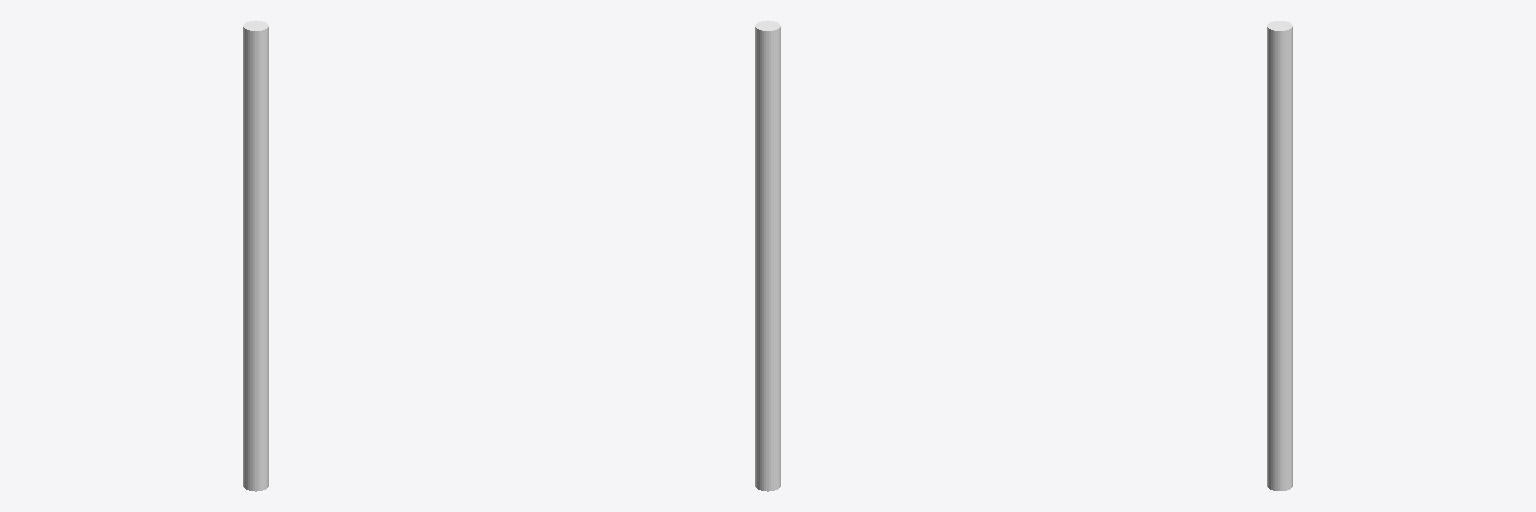
URDF robot description (cylinder):
<?xml version="1.0"?>
<robot name="cylinder">
  <!-- ベースリンク -->
  <link name="base_link">
    <visual>
      <geometry>
        <box size="0.1 0.1 0.1"/>
      </geometry>
      <material name="blue">
        <color rgba="0 0 1 1"/>
      </material>
    </visual>
  </link>

  <joint name="joint1" type="fixed">
    <parent link="base_link"/>
    <child link="link_cylinder"/>
    <origin xyz="0 0 0.1" rpy="0 0 0"/>
  </joint>

  <link name="link_cylinder">
    <visual>
      <geometry>
        <cylinder length="6.0" radius="0.15"/>
      </geometry>
      <material name="green">
        <color rgba="1 1 1 0.5"/>
      </material>
    </visual>
    <collision>
      <origin
        xyz="0 0 0"
        rpy="0 0 0" />
      <geometry>
        <cylinder length="6.0" radius="0.15"/>
      </geometry>
    </collision>
  </link>
</robot>

--- What the picture shows (computed from the rendered views, not written in the file) ---
Views: 3 orthographic renders of the robot side by side, from view 1: azimuth 30°, elevation 25°; view 2: azimuth 150°, elevation 25°; view 3: azimuth 270°, elevation 25°.
Robot: cylinder — 2 links, 1 joints (1 fixed); root link base_link; default pose: every joint at zero.
Visible links, largest first — view 1: link_cylinder; view 2: link_cylinder; view 3: link_cylinder.
Boxes of the visible links, x1=… form: link_cylinder: x1=243, y1=20, x2=268, y2=491; link_cylinder: x1=755, y1=20, x2=780, y2=491; link_cylinder: x1=1267, y1=21, x2=1292, y2=490.
Bounding box of the posed robot: 0.3 × 0.3 × 6 m (x, y, z).
Geometry: primitives only (box / cylinder / sphere), no mesh files.